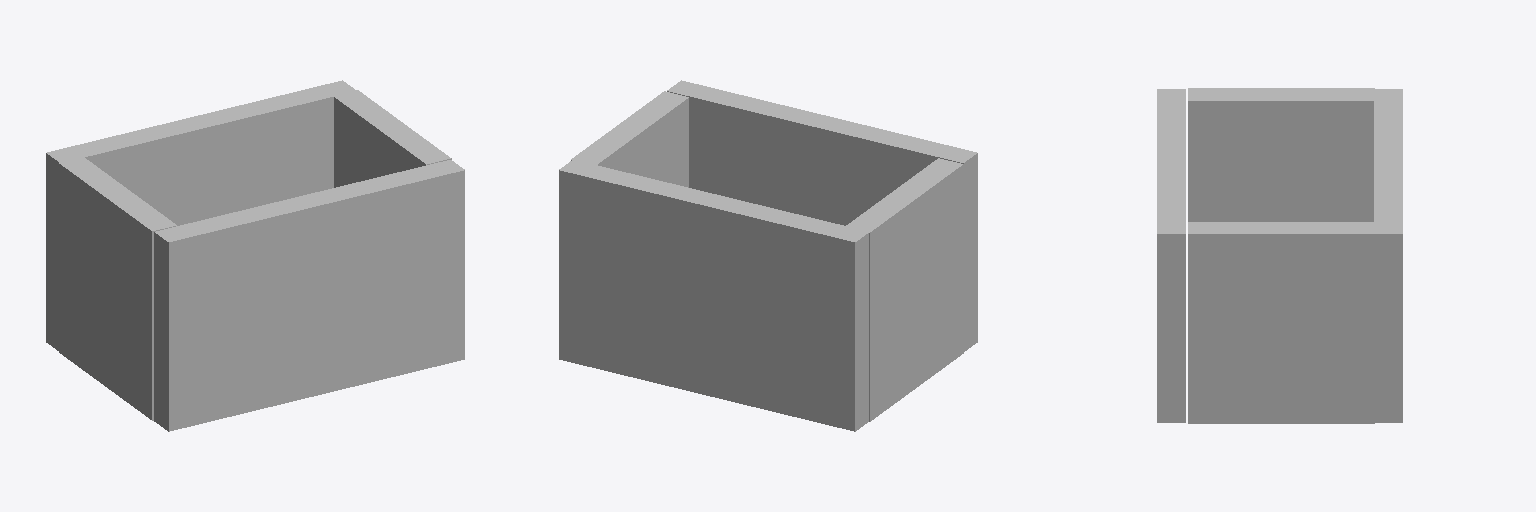
The model's file is yan.obj.
The picture shows the model from 3 angles: view 1: azimuth 30°, elevation 25°; view 2: azimuth 150°, elevation 25°; view 3: azimuth 270°, elevation 25°; orthographic projection.
Parts seen in each view (by area): view 1: Cube; view 2: Cube; view 3: Cube.
Part boxes in pixels (x1,y1,x2,y2): Cube: (46, 80, 464, 431); Cube: (559, 80, 977, 431); Cube: (1157, 88, 1402, 423).
Bounding box in the file's own units: 13.61 × 8.23 × 9.66.